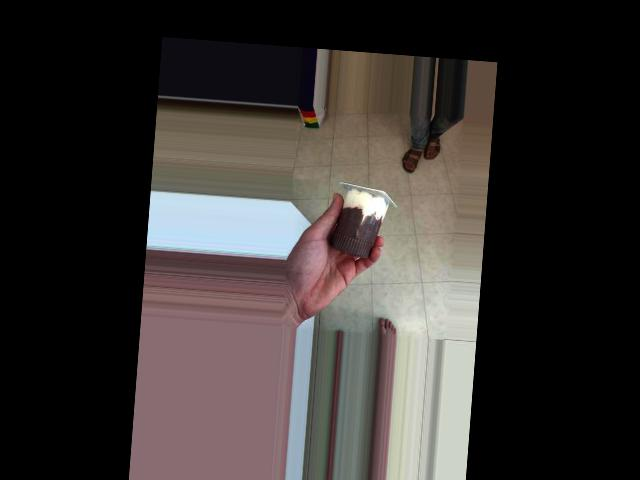milky: (333, 172, 388, 256)
